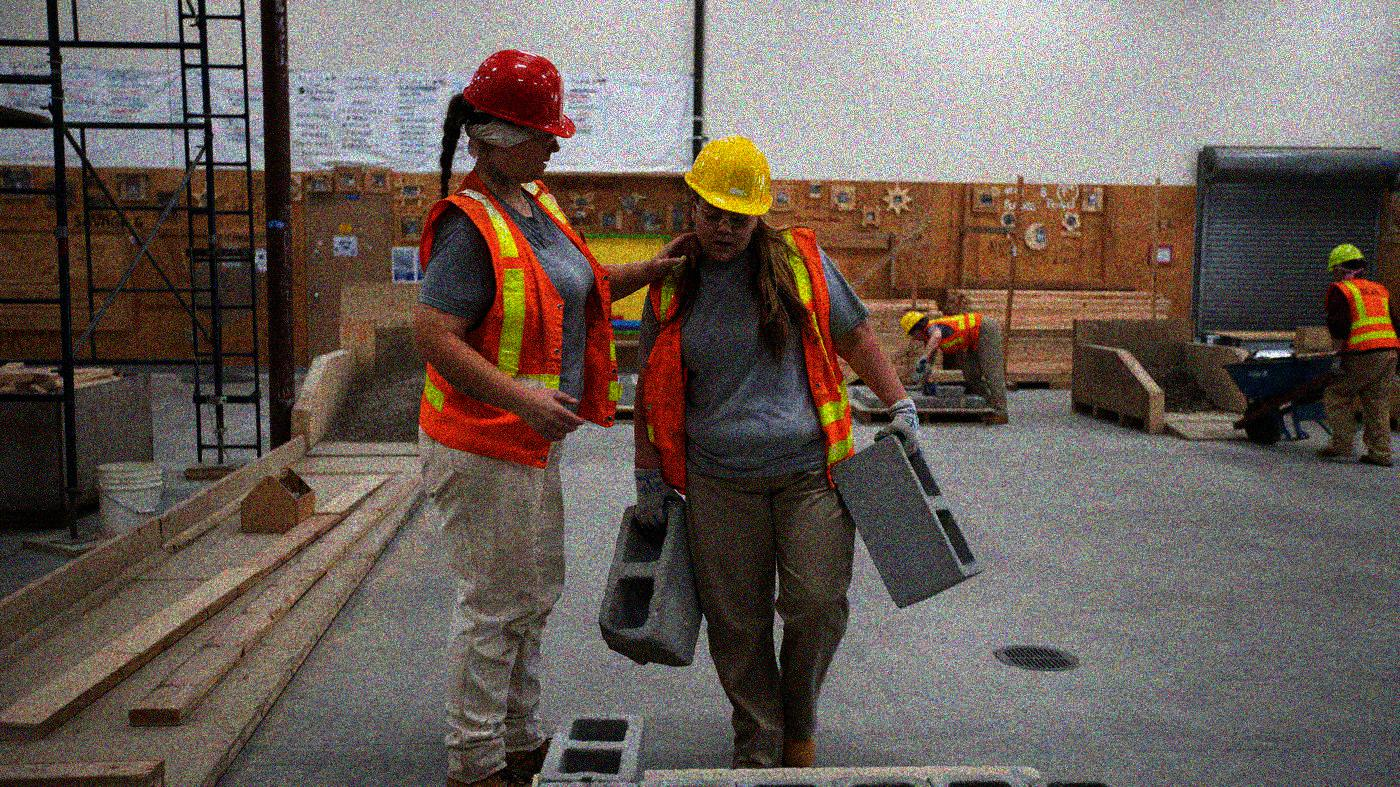helmet: (450, 47, 579, 194), (679, 133, 776, 267), (1327, 238, 1367, 285), (896, 307, 931, 339)
